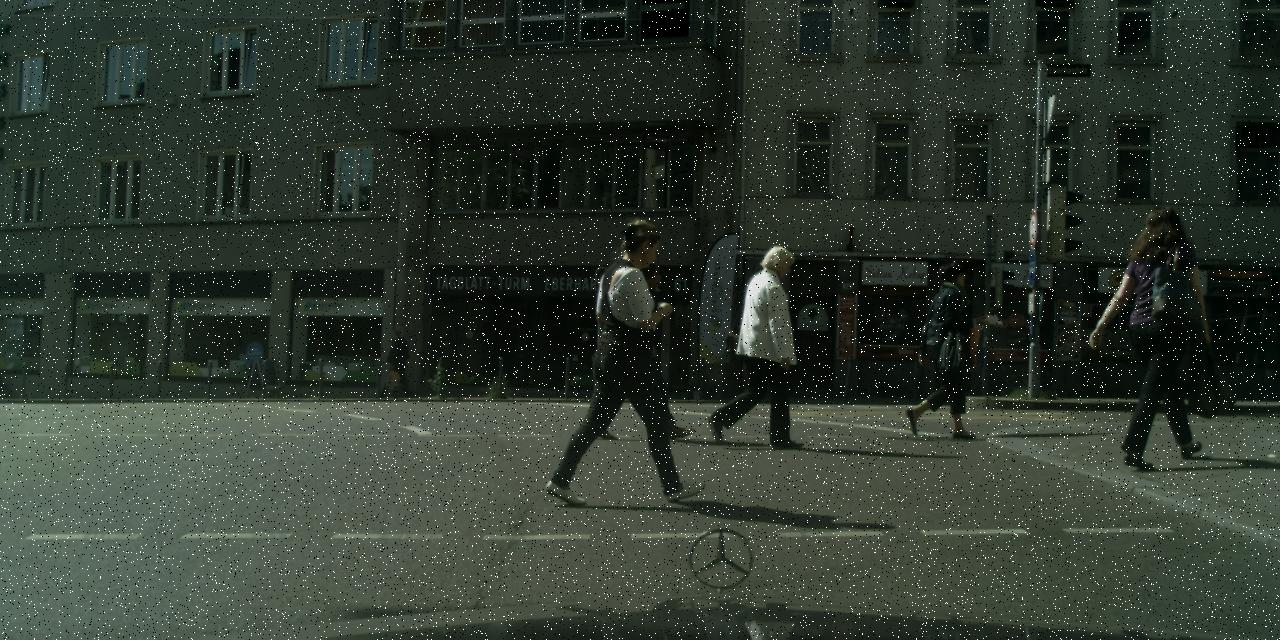ped: (574, 219, 689, 502), (1113, 204, 1218, 462), (723, 246, 803, 443), (603, 261, 676, 439), (908, 261, 978, 433), (378, 328, 408, 398)
